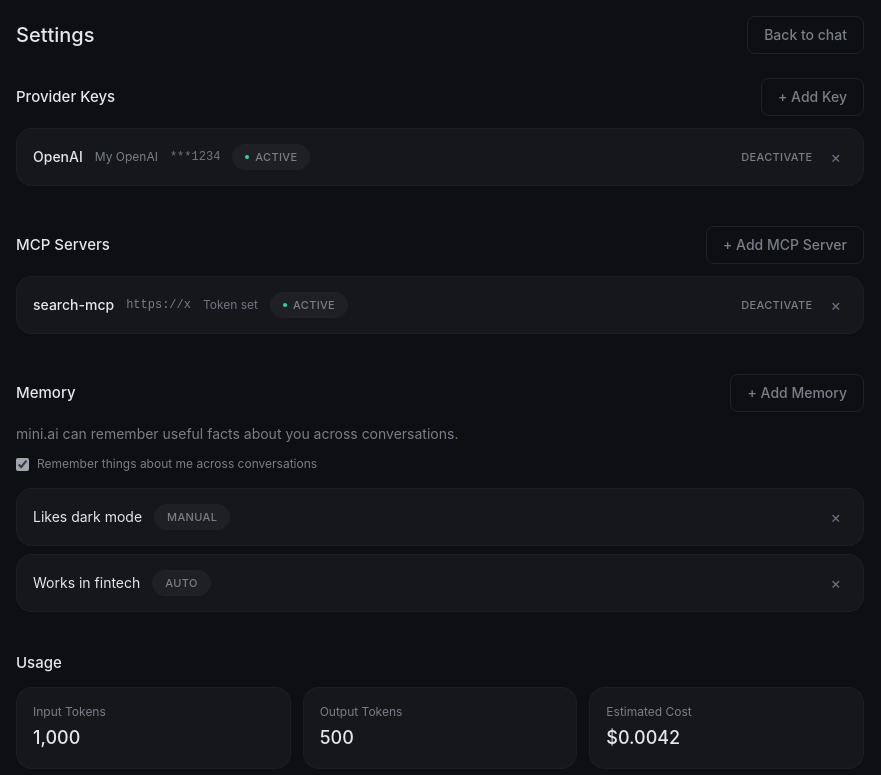
Test case: MCP Servers › shows an error banner and keeps the server listed when delete fails
The width and height of the screenshot is (881, 775).
Check: the text "search-mcp" is shown, box [33, 295, 114, 315]
Click the button named "Delete search-mcp" at {"x": 836, "y": 305}, box [824, 289, 847, 321]
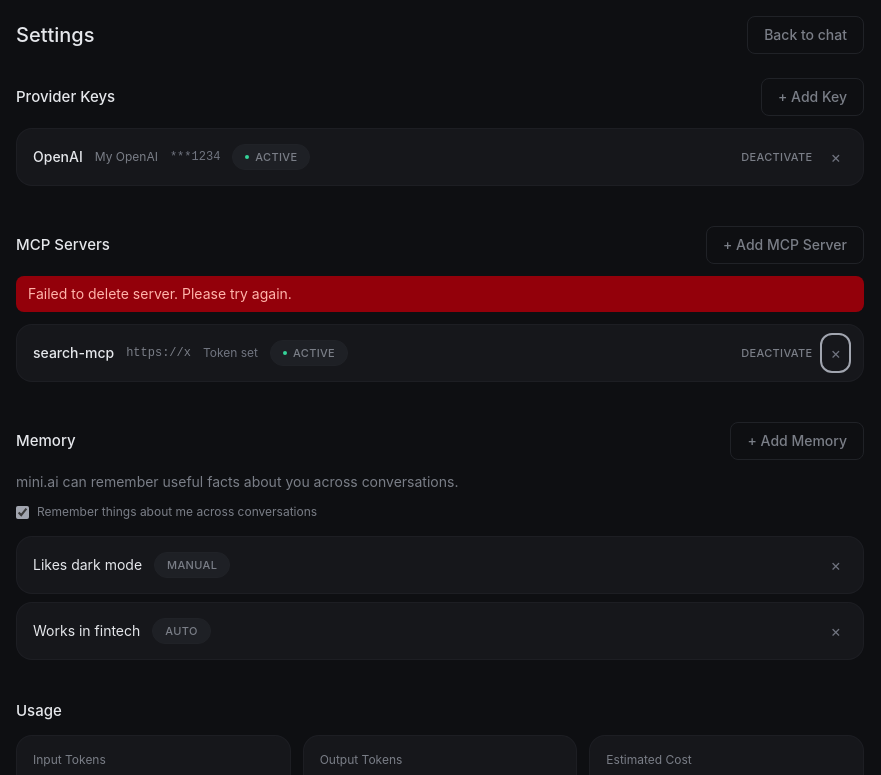
Check: the text "search-mcp" is shown, box [33, 343, 114, 363]
Check: the message shows "Failed to delete server", box [28, 285, 292, 302]
